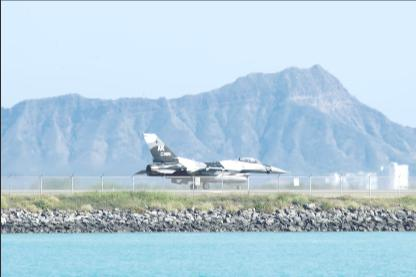F14: (132, 132, 290, 190)
